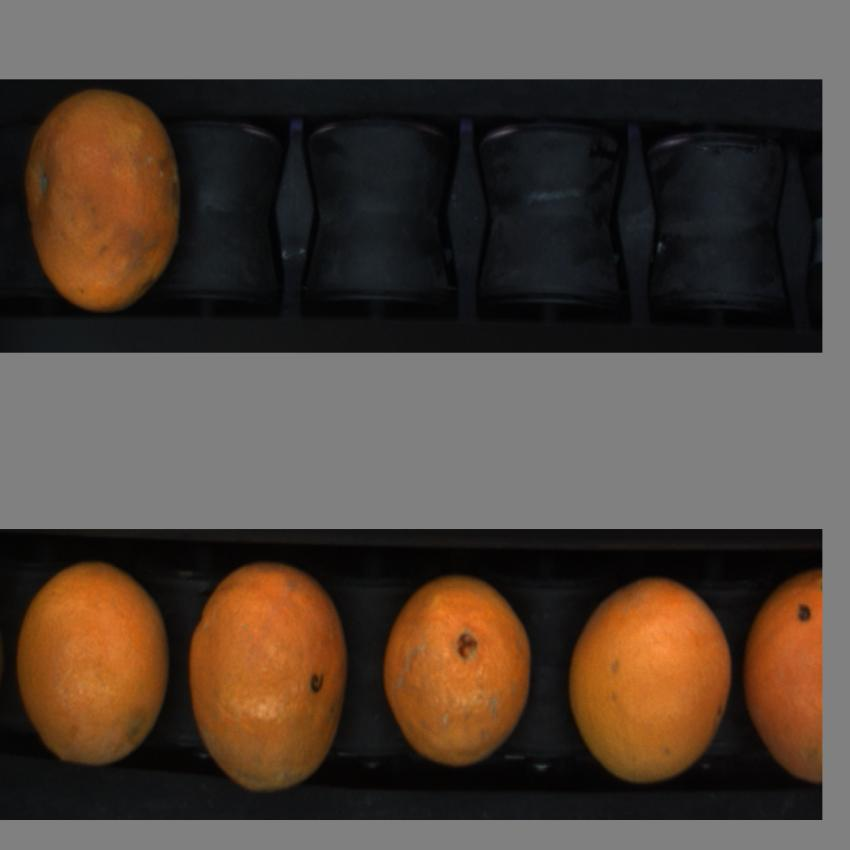Buen estado: (186, 548, 346, 795), (569, 573, 736, 787), (13, 558, 167, 773), (384, 560, 538, 773), (745, 572, 826, 786)
Mal estado: (21, 84, 186, 315)
